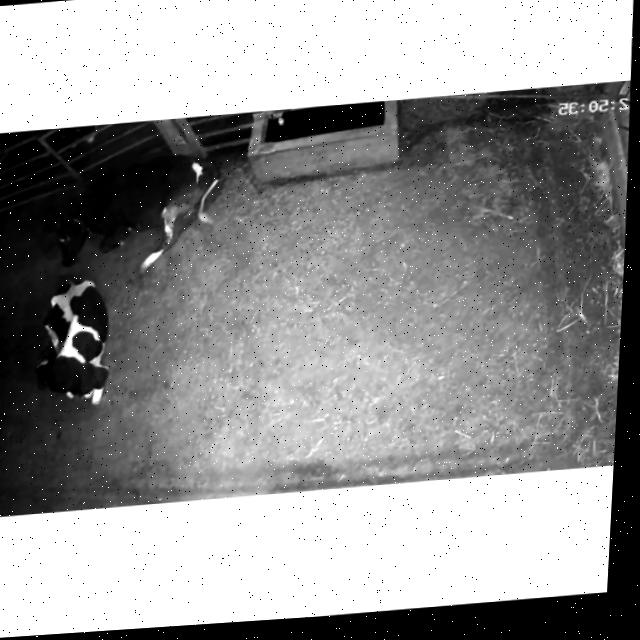lay: (22, 140, 232, 285), (23, 265, 124, 423)
